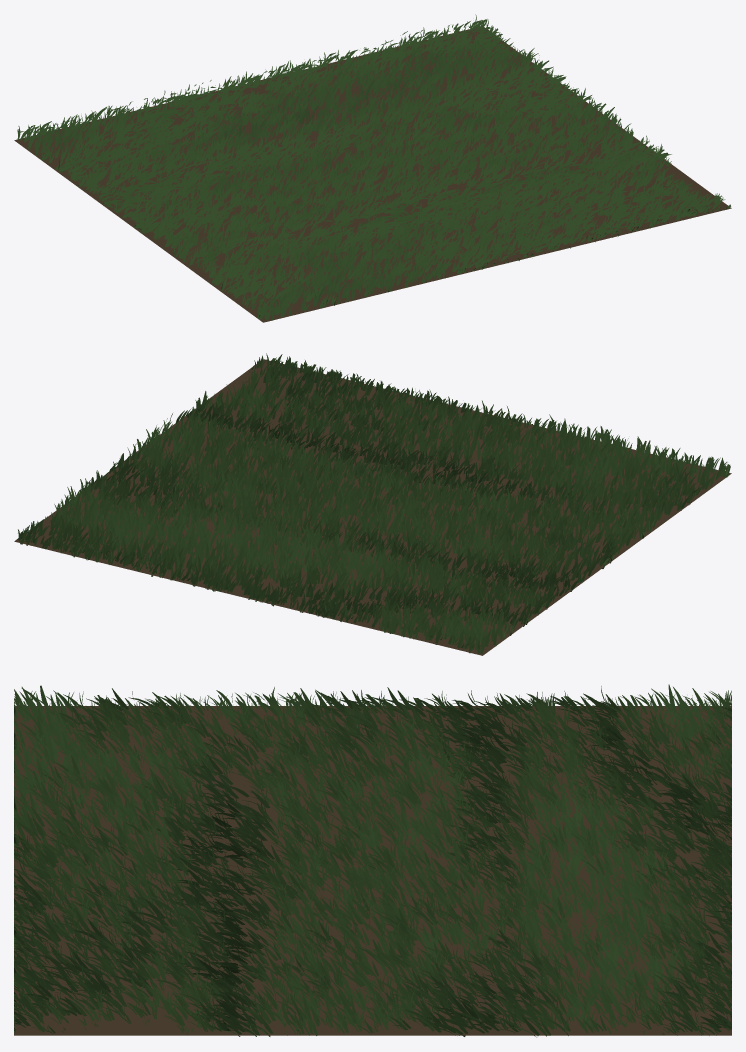
File: ground_p7 2.glb
3 views of the same model, one above another, from view 1: azimuth 30°, elevation 25°; view 2: azimuth 150°, elevation 25°; view 3: azimuth 270°, elevation 25° (orthographic). The views are drawn at different scales.
Visible parts, largest first — view 1: Ground_P7; view 2: Ground_P7; view 3: Ground_P7.
Boxes of the visible parts, <box> form: Ground_P7: <box>14,14,731,322</box>; Ground_P7: <box>14,353,731,655</box>; Ground_P7: <box>14,684,731,1037</box>.
Bounding box in the file's own units: 19 × 0.7828 × 17.5.
